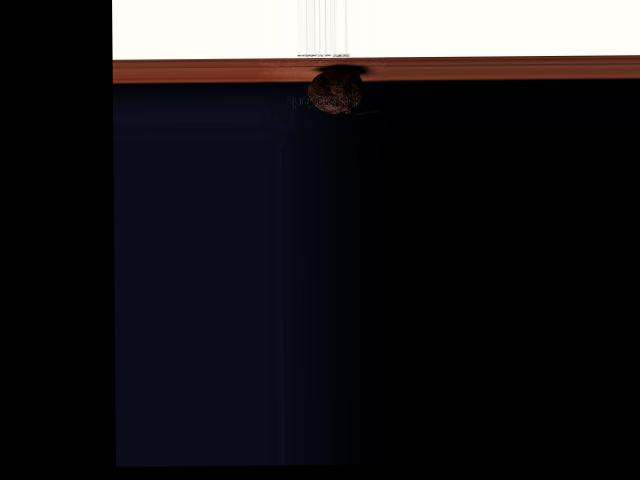beet: (308, 66, 380, 114)
